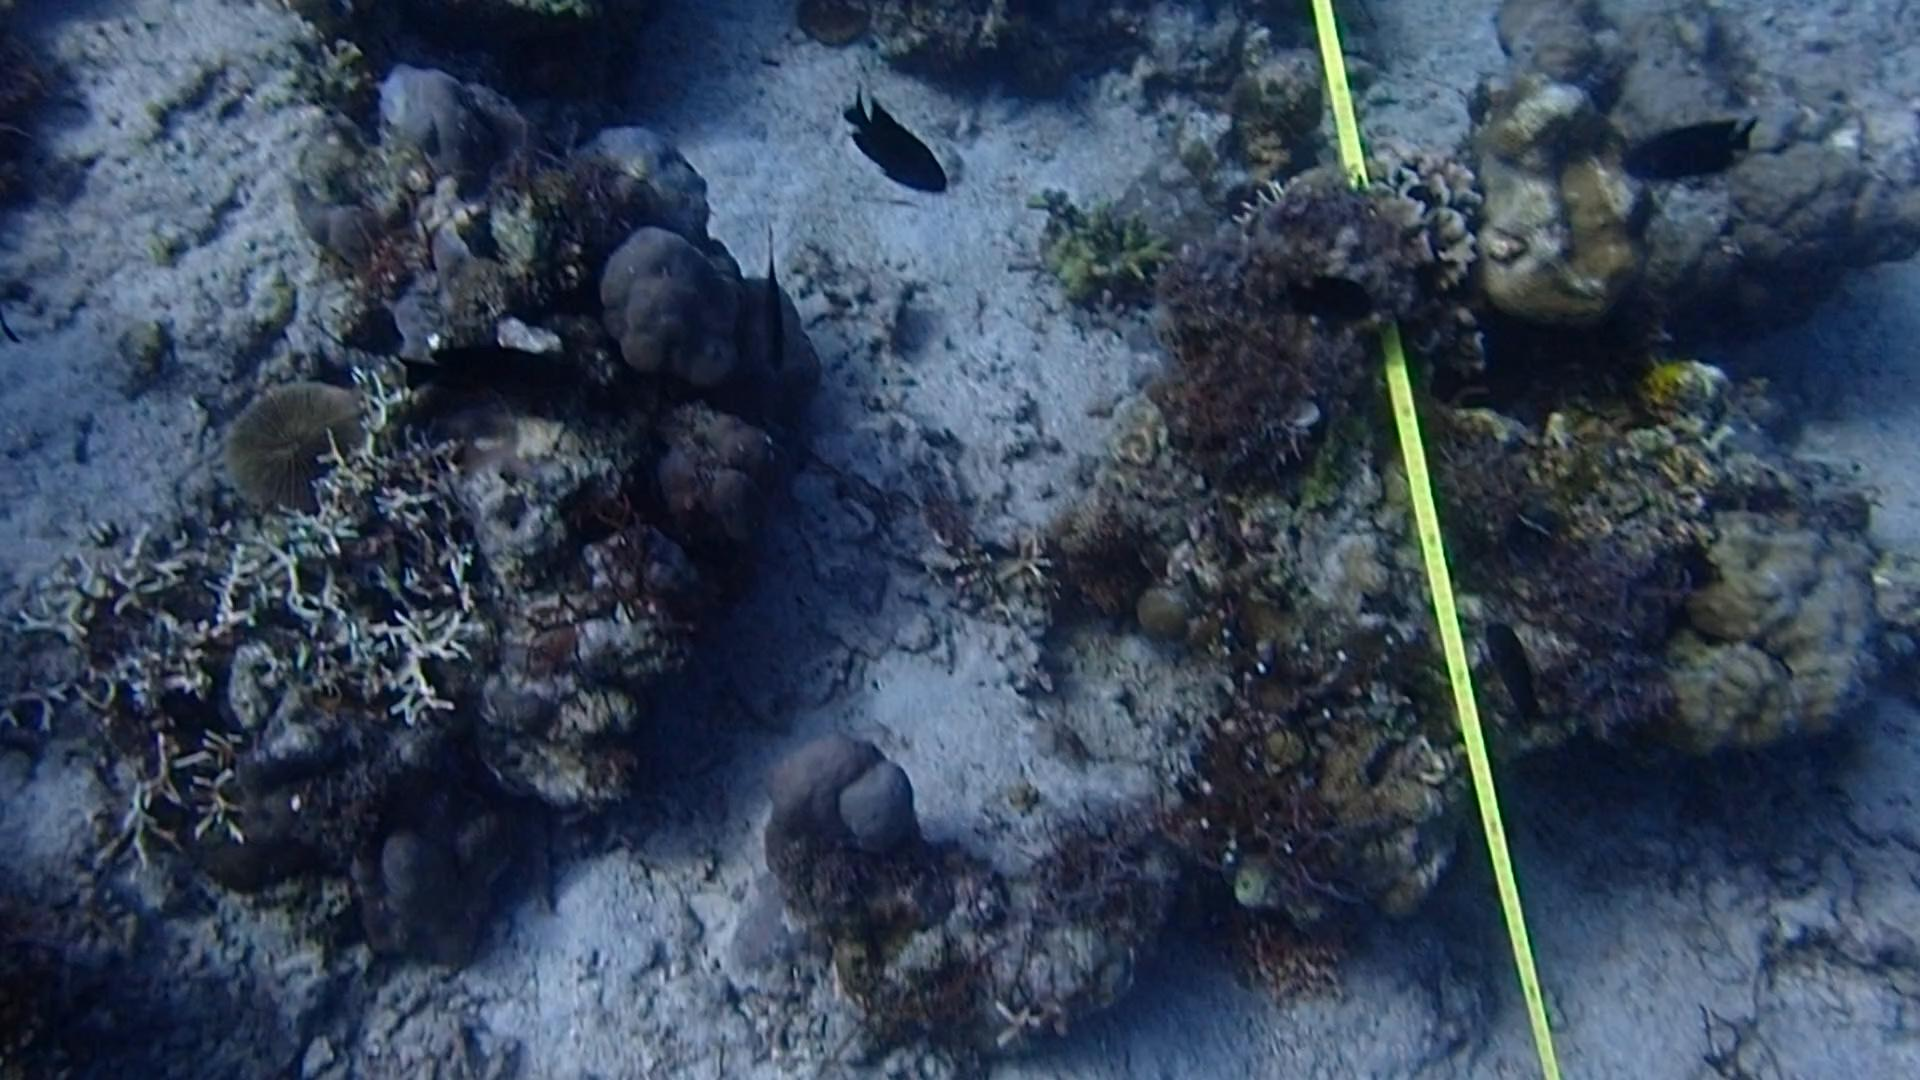Dark Fish: (415, 338, 579, 426), (845, 80, 948, 214), (1613, 95, 1754, 189), (1468, 600, 1552, 736), (1261, 262, 1374, 344), (756, 248, 808, 372)
